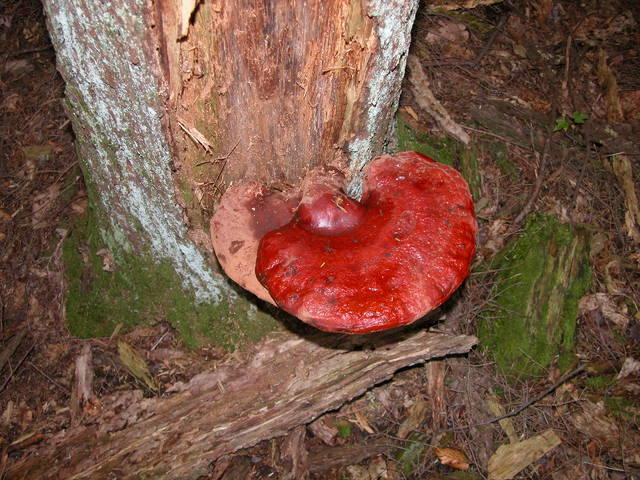Non-edible Mushroom: (253, 149, 478, 336)
